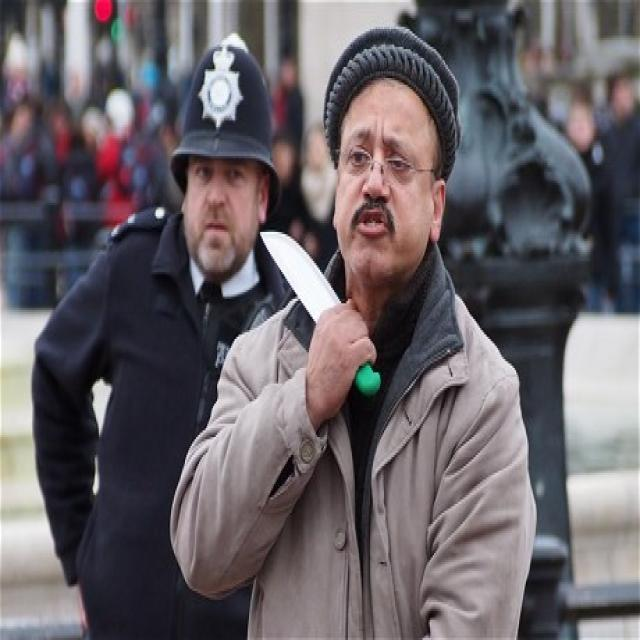knife: (259, 226, 383, 396)
